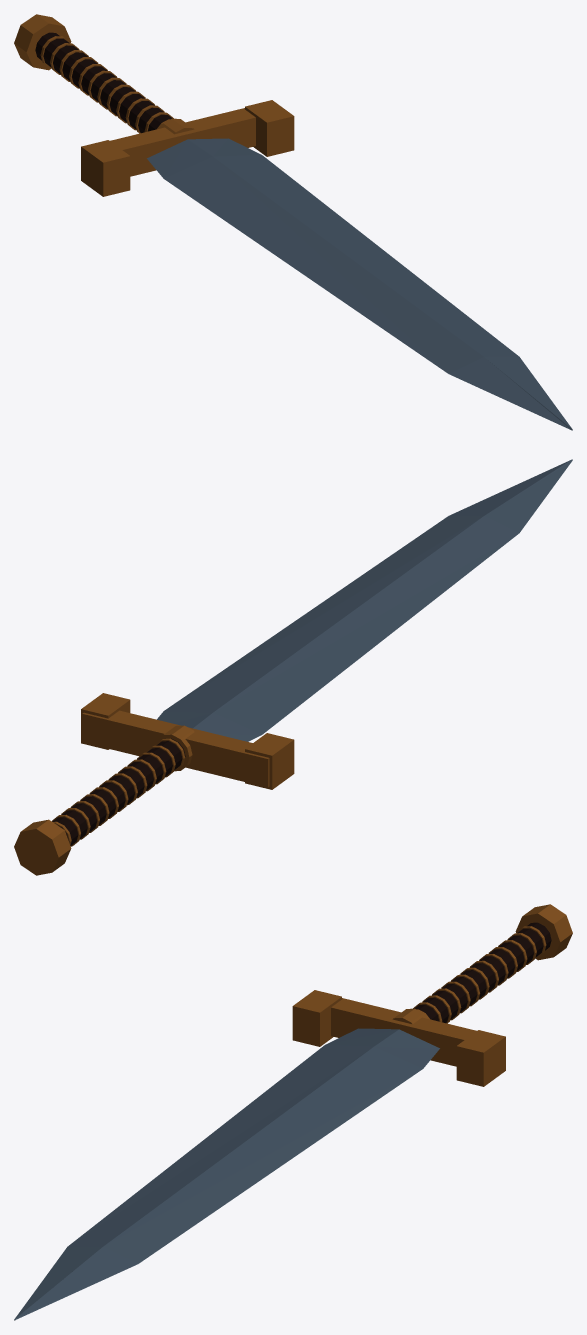
Rendered from SM_StarterGreatSword.obj.
The picture shows the model from 3 angles, top to bottom: view 1: azimuth 30°, elevation 25°; view 2: azimuth 150°, elevation 25°; view 3: azimuth 330°, elevation 25°; orthographic projection.
Parts seen in each view (by area): view 1: SM_StarterGreatSword; view 2: SM_StarterGreatSword; view 3: SM_StarterGreatSword.
Boxes of the visible parts, x1,y1,x2,y2 form: SM_StarterGreatSword: (14,14,572,430); SM_StarterGreatSword: (14,459,572,875); SM_StarterGreatSword: (14,904,572,1320).
Size of the model in its own units: 35 by 8.2 by 170.
